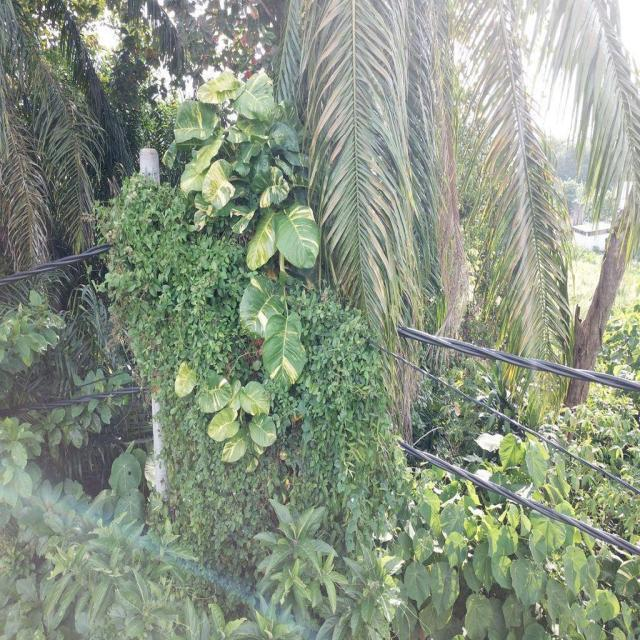critical vegetation: (78, 168, 366, 374)
